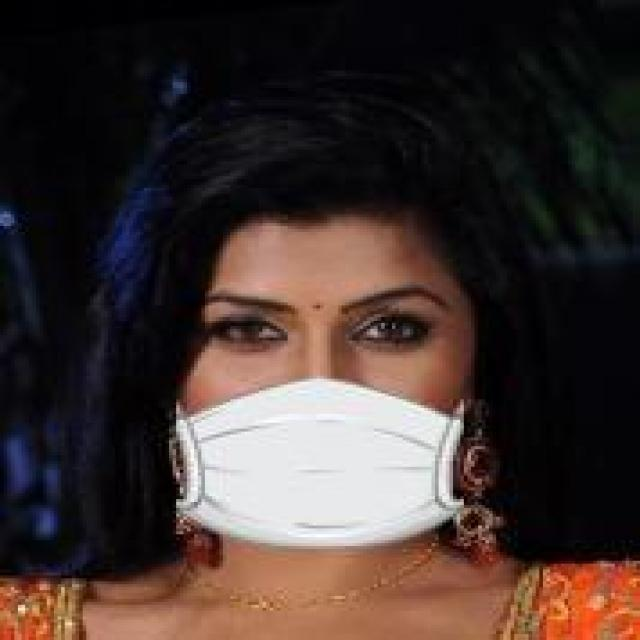mask: (122, 76, 525, 578)
